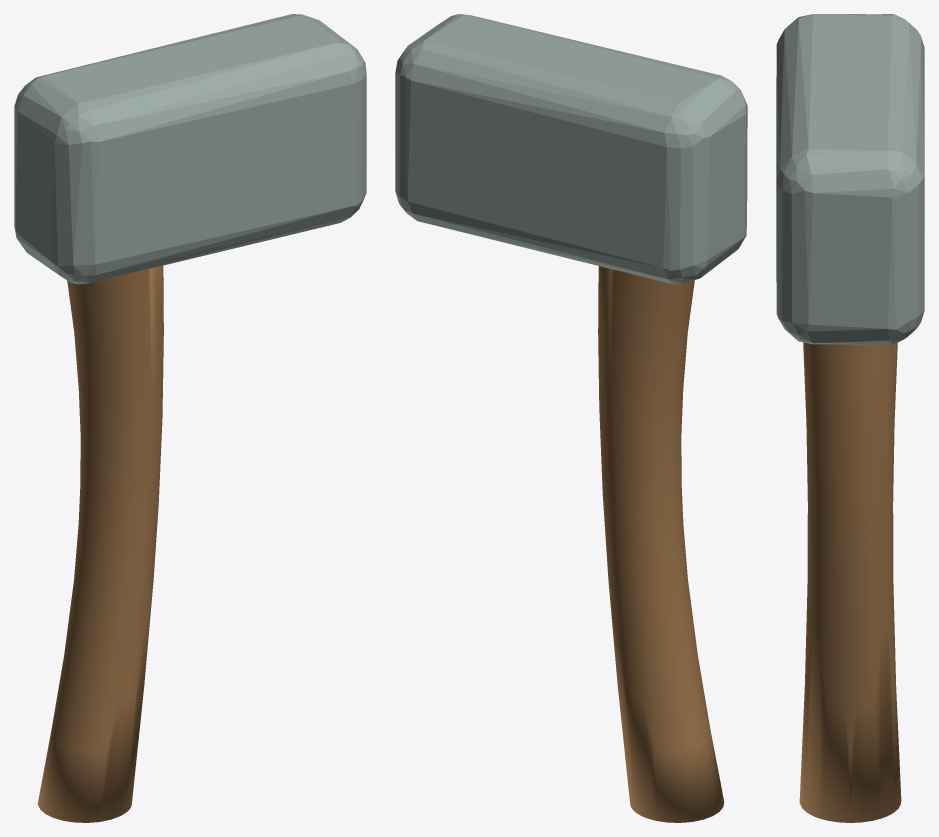
File: reduced-1000.glb
3 views of the same model, side by side, from view 1: azimuth 30°, elevation 25°; view 2: azimuth 150°, elevation 25°; view 3: azimuth 270°, elevation 25° (orthographic). The views are drawn at different scales.
Visible parts, largest first — view 1: Cube.002, Handle.002; view 2: Cube.002, Handle.002; view 3: Cube.002, Handle.002.
Boxes of the visible parts, x1,y1,x2,y2 form: Cube.002: (14,14,366,284); Handle.002: (37,265,163,822); Cube.002: (395,14,747,284); Handle.002: (598,266,724,822); Cube.002: (776,14,924,344); Handle.002: (799,342,901,822).
Size of the model in its own units: 0.6475 by 1.43 by 0.2475.
